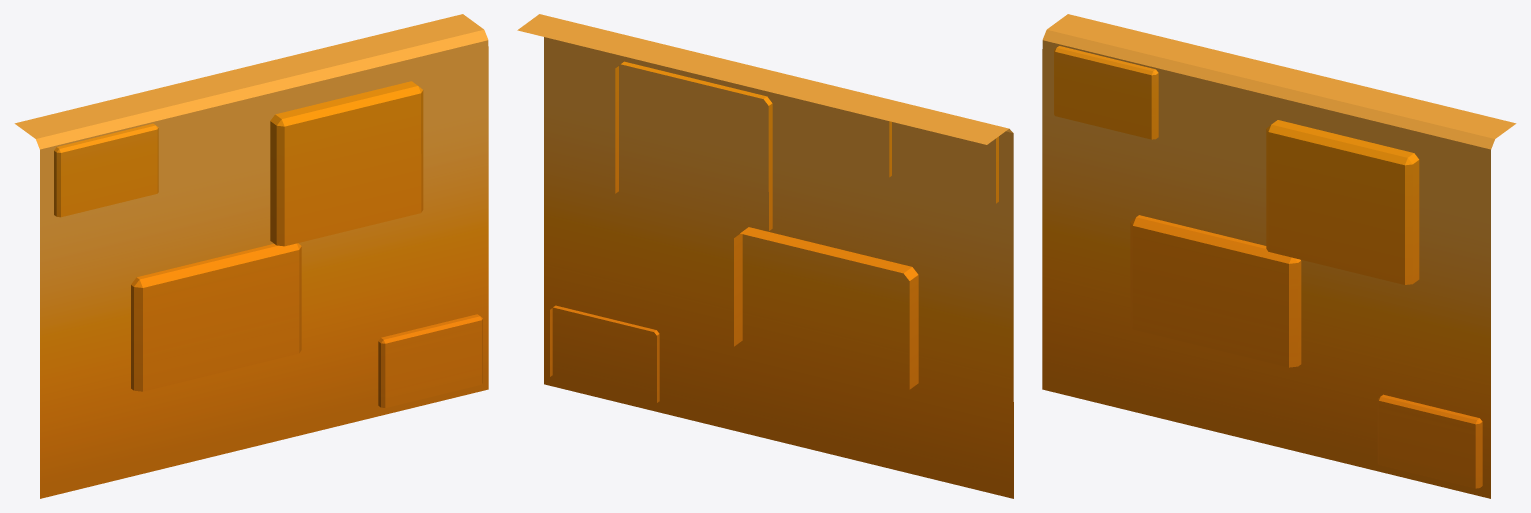
File: Wall_Btm_01.fbx
3 views of the same model, side by side, from view 1: azimuth 30°, elevation 25°; view 2: azimuth 150°, elevation 25°; view 3: azimuth 330°, elevation 25° (orthographic). The views are drawn at different scales.
Parts seen in each view (by area): view 1: Wall Btm 01; view 2: Wall Btm 01; view 3: Wall Btm 01.
Part boxes in pixels (x1,y1,x2,y2): Wall Btm 01: (14,14,488,498); Wall Btm 01: (517,14,1013,498); Wall Btm 01: (1042,14,1516,498).
Size of the model in its own units: 400 by 304 by 54.06.
